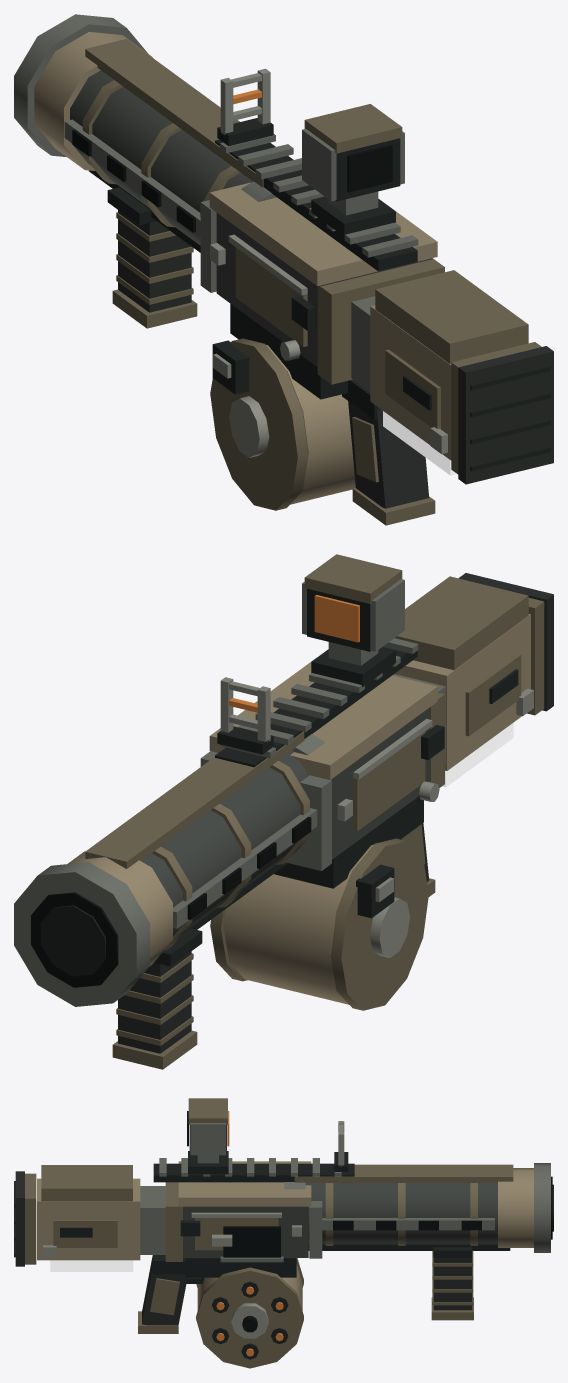
File: launcher.glb
3 renders of one model, top to bottom at view 1: azimuth 30°, elevation 25°; view 2: azimuth 150°, elevation 25°; view 3: azimuth 270°, elevation 25°, orthographic. The views are drawn at different scales.
Visible parts, largest first — view 1: Merged_material (×8), Stock lower brace; view 2: Merged_material (×9), Stock lower brace; view 3: Merged_material (×9), Stock lower brace.
Part boxes in pixels (x1=…): Merged_material (×8): x1=14, y1=14, x2=553, y2=525; Stock lower brace: x1=383, y1=411, x2=456, y2=475; Merged_material (×9): x1=14, y1=554, x2=553, y2=1069; Stock lower brace: x1=442, y1=723, x2=513, y2=787; Merged_material (×9): x1=14, y1=1098, x2=553, y2=1368; Stock lower brace: x1=50, y1=1260, x2=133, y2=1271.
Bounding box in the file's own units: 0.2365 × 0.521 × 1.06.
